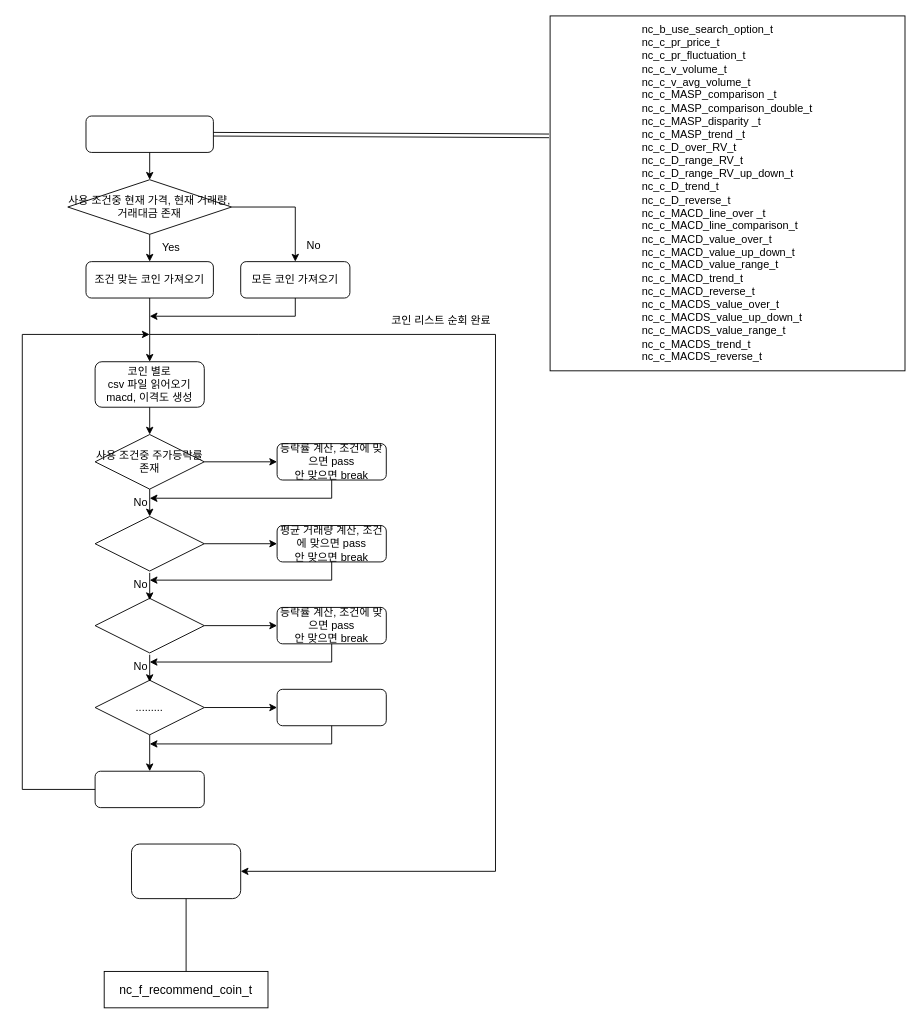
This 921x1024 diagram has some shape labels left out. Each missing label, with the centre of its shape:
사용 조건 가져오기: (x=149, y=133)
사용 조건중 주가 이동평균 존재: (x=149, y=625)
사용 조건중 평균 거래량 존재: (x=149, y=543)
조건에 맞으면 pass 안 맞으면 break: (x=331, y=707)
종목 추천 리스트 append: (x=149, y=789)
추천 종목 insert: (x=186, y=871)
